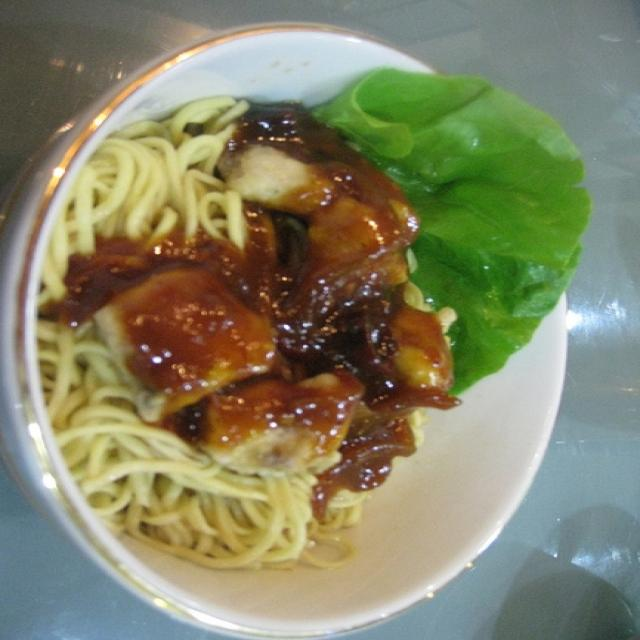面条主食: (25, 27, 563, 612)
